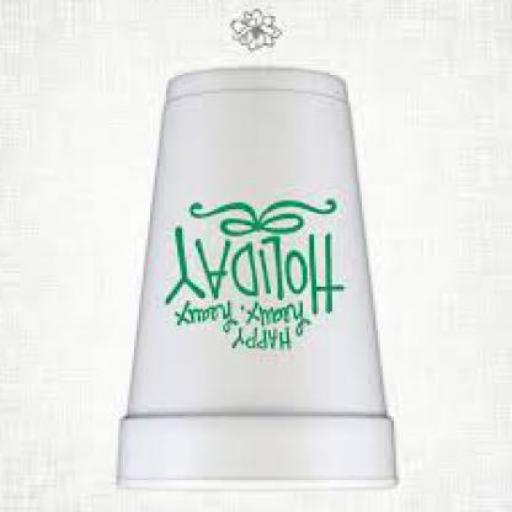paper: (116, 72, 403, 494)
